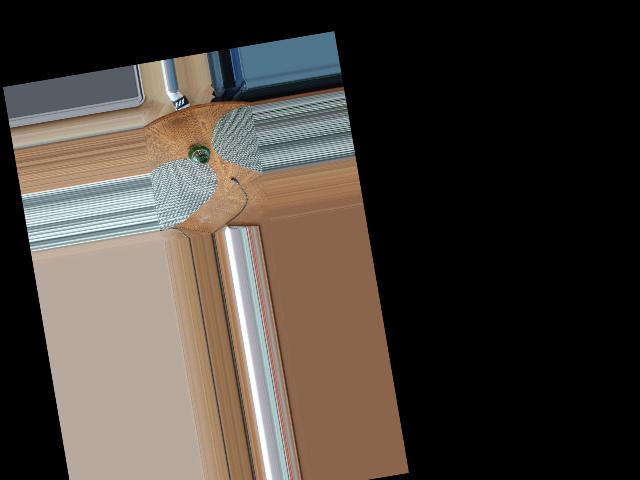beer: (186, 141, 211, 165)
